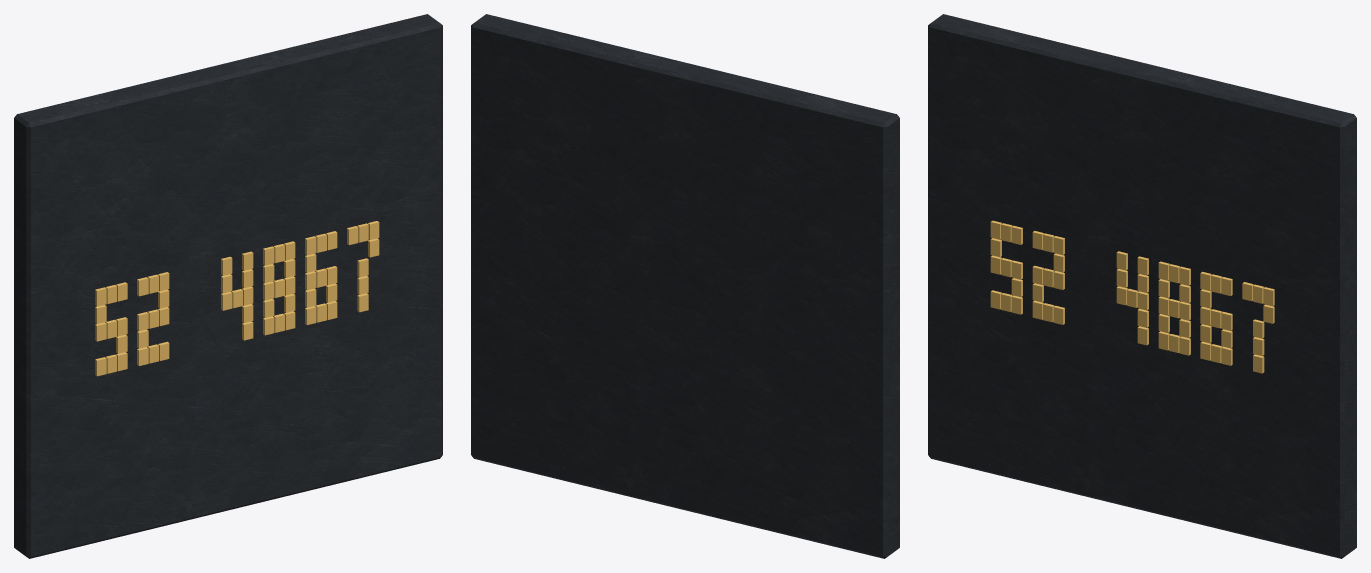
The model's file is train_number_plate.gltf.
3 renders of one model, left to right at view 1: azimuth 30°, elevation 25°; view 2: azimuth 150°, elevation 25°; view 3: azimuth 330°, elevation 25°, orthographic.
Bounding box in the file's own units: 1 × 1 × 0.075.
Materials: 3 (2 with a texture image).
